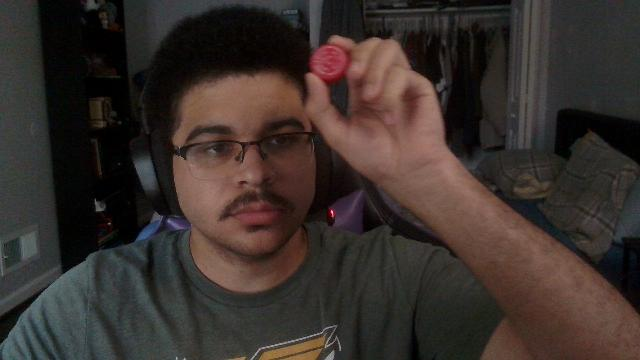cap: (310, 44, 350, 84)
